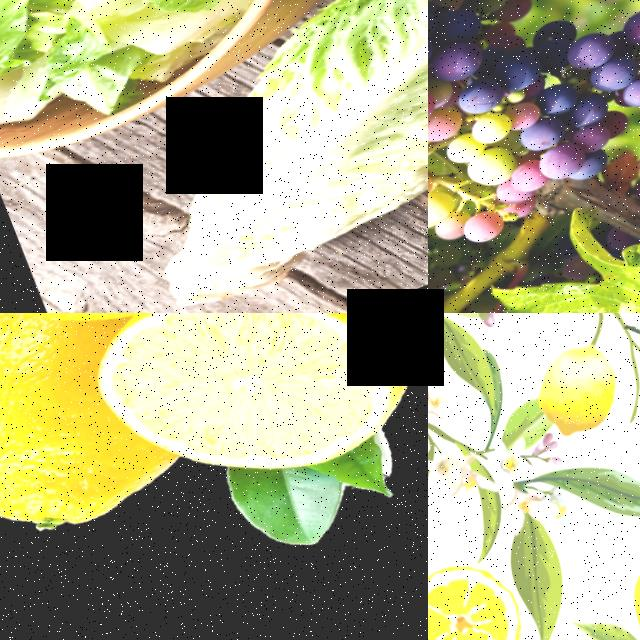grapes: (462, 0, 640, 205), (428, 0, 507, 258)
lemon: (86, 313, 428, 522), (0, 313, 162, 566), (523, 334, 630, 442), (428, 542, 538, 640), (610, 528, 640, 618)
lettuce: (0, 0, 267, 135), (305, 0, 428, 150)
